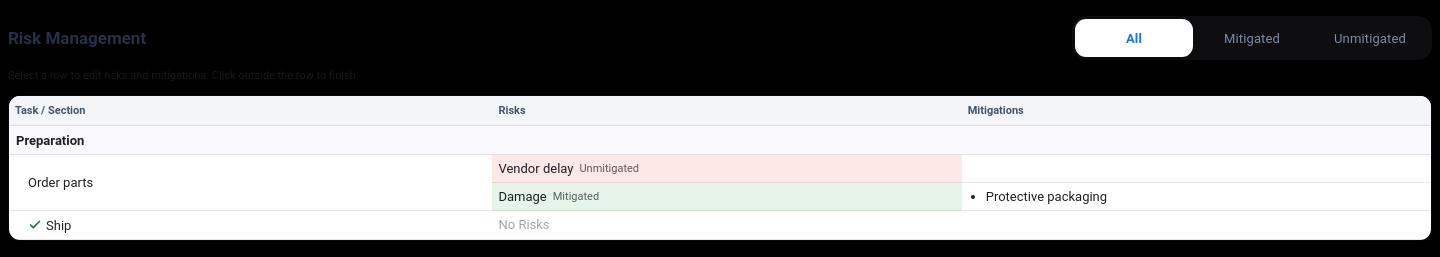
it: filters individual risks while retaining matching task and section context
The image size is (1440, 257).
Click the button "Mitigated" at (1252, 38), box [1193,19,1311,57]
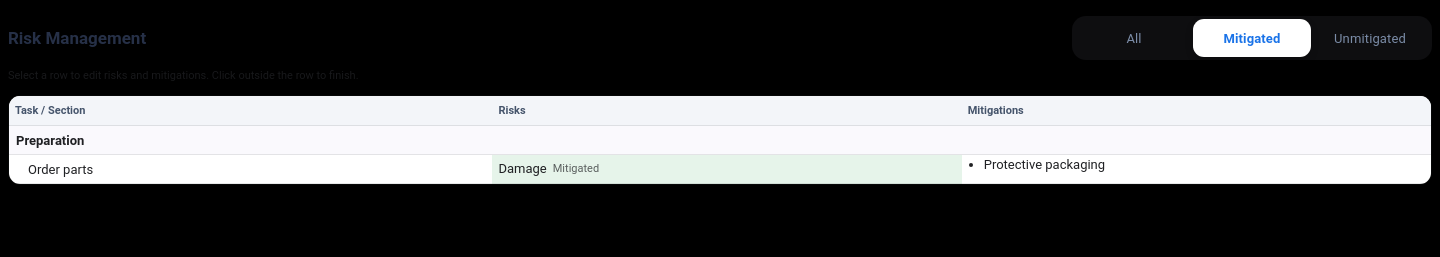
Expected: the text "Damage" is shown, [498,161,547,176]
Expected: the text "Vendor delay" is gone
Expected: the button "Ship" is gone
Click the button "Unmitigated" at (1370, 38), box [1311,19,1429,57]
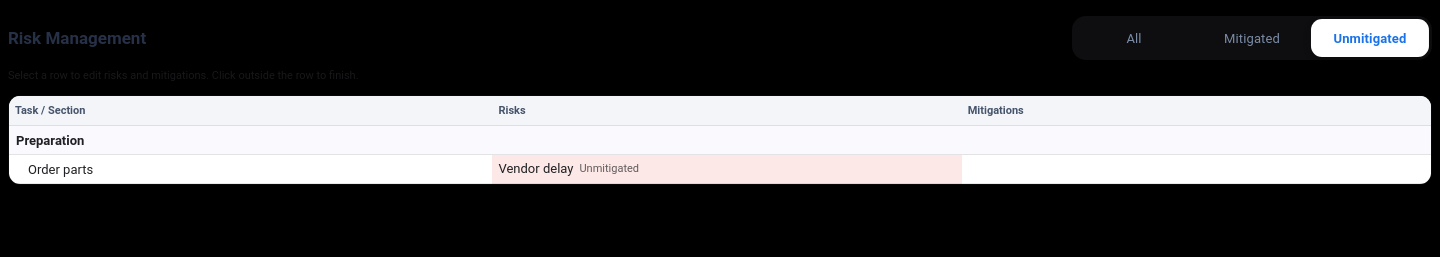
Expected: the text "Vendor delay" is shown, [498,161,574,176]
Expected: the text "Damage" is gone
Expected: the text "Protective packaging" is gone
Click the button "All" at (1134, 38), box [1075,19,1193,57]
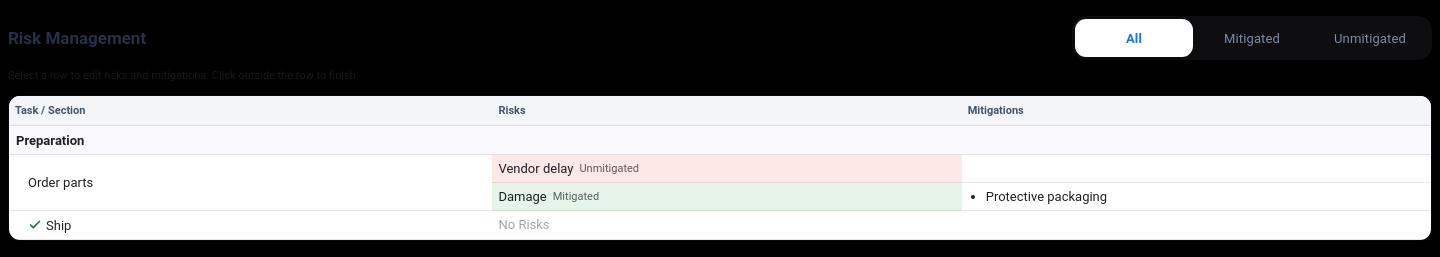
Expected: the text "Vendor delay" is shown, [498,161,574,176]
Expected: the text "Damage" is shown, [498,189,547,204]
Expected: the text "Ship" is shown, [46,218,71,233]
